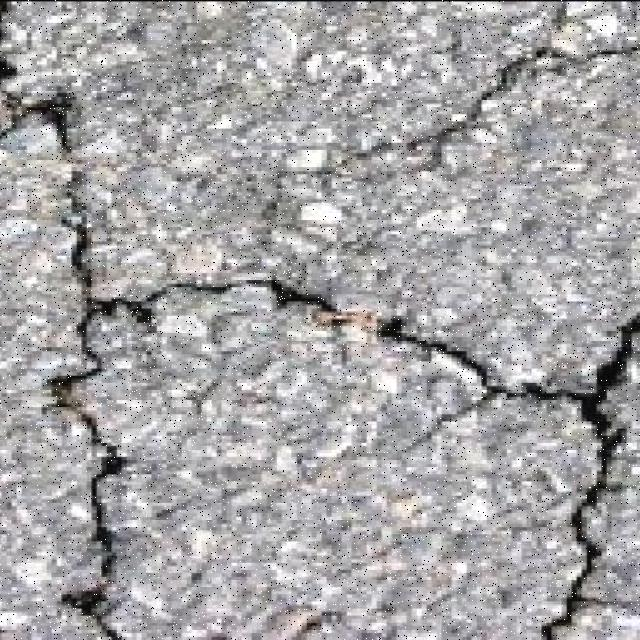Crack: (374, 318, 640, 640), (42, 172, 239, 578), (407, 46, 640, 171), (0, 60, 74, 151), (61, 580, 121, 640), (244, 280, 336, 311)
